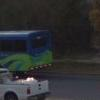Bus: (2, 25, 58, 73)
